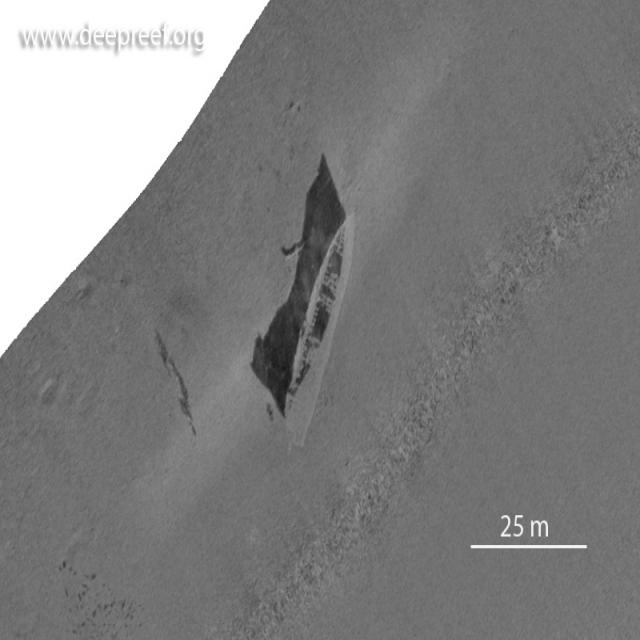ship: (266, 150, 353, 452)
